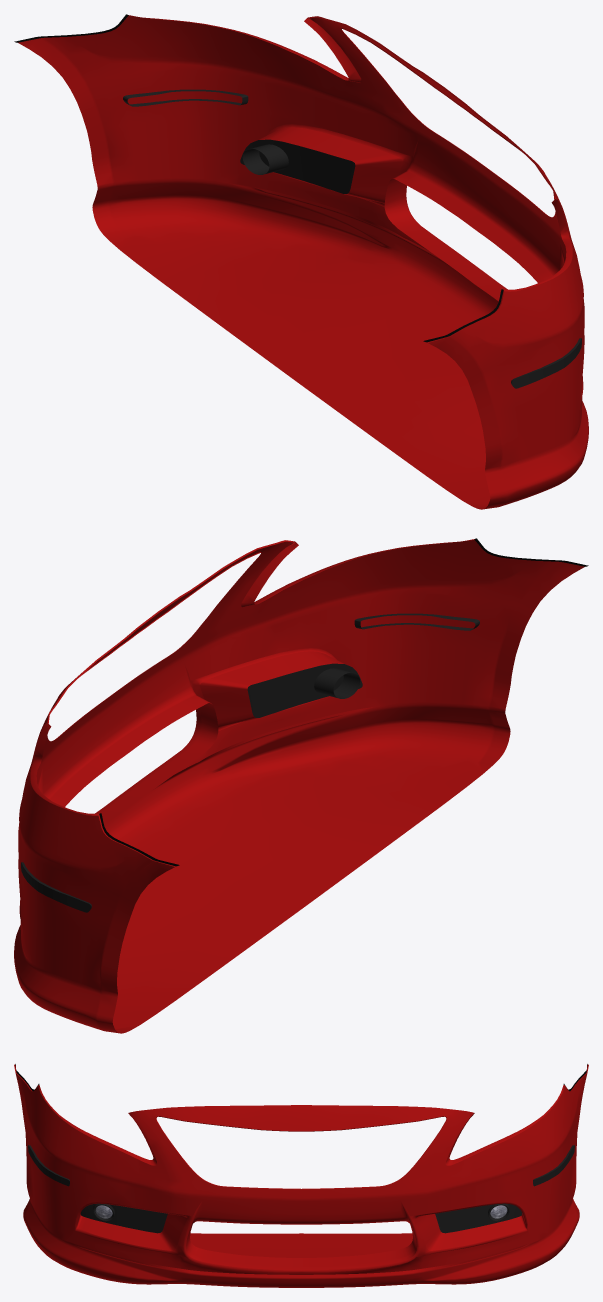
3 renders of one model, top to bottom at view 1: azimuth 30°, elevation 25°; view 2: azimuth 150°, elevation 25°; view 3: azimuth 270°, elevation 25°, orthographic. The views are drawn at different scales.
Parts seen in each view (by area): view 1: Y175_18_021G_C_Y175_18_021G_C_1_DaS, Y175_18_021G_C_3_D_Y175_18_021G_C, Y175_18_021G_C_Y175_18_021G_C_1_DaS_E; view 2: Y175_18_021G_C_Y175_18_021G_C_1_DaS, Y175_18_021G_C_3_D_Y175_18_021G_C, Y175_18_021G_C_Y175_18_021G_C_1_DaS_E; view 3: Y175_18_021G_C_Y175_18_021G_C_1_DaS, Y175_18_021G_C_Y175_18_021G_C_1_DaS_E, Y175_18_021G_C_3_D_Y175_18_021G_C, Y175_18_021G_C_Y175_18_021G_C_6_N.
Boxes of the visible parts, x1,y1,x2,y2 form: Y175_18_021G_C_Y175_18_021G_C_1_DaS: [18, 16, 588, 509]; Y175_18_021G_C_3_D_Y175_18_021G_C: [123, 89, 581, 388]; Y175_18_021G_C_Y175_18_021G_C_1_DaS_E: [128, 15, 583, 434]; Y175_18_021G_C_Y175_18_021G_C_1_DaS: [14, 540, 584, 1033]; Y175_18_021G_C_3_D_Y175_18_021G_C: [21, 613, 479, 912]; Y175_18_021G_C_Y175_18_021G_C_1_DaS_E: [19, 539, 474, 946]; Y175_18_021G_C_Y175_18_021G_C_1_DaS: [15, 1073, 587, 1287]; Y175_18_021G_C_Y175_18_021G_C_1_DaS_E: [14, 1064, 588, 1277]; Y175_18_021G_C_3_D_Y175_18_021G_C: [28, 1145, 574, 1233]; Y175_18_021G_C_Y175_18_021G_C_6_N: [95, 1205, 507, 1218].
Bounding box in the file's own units: 76.08 × 66.06 × 192.
